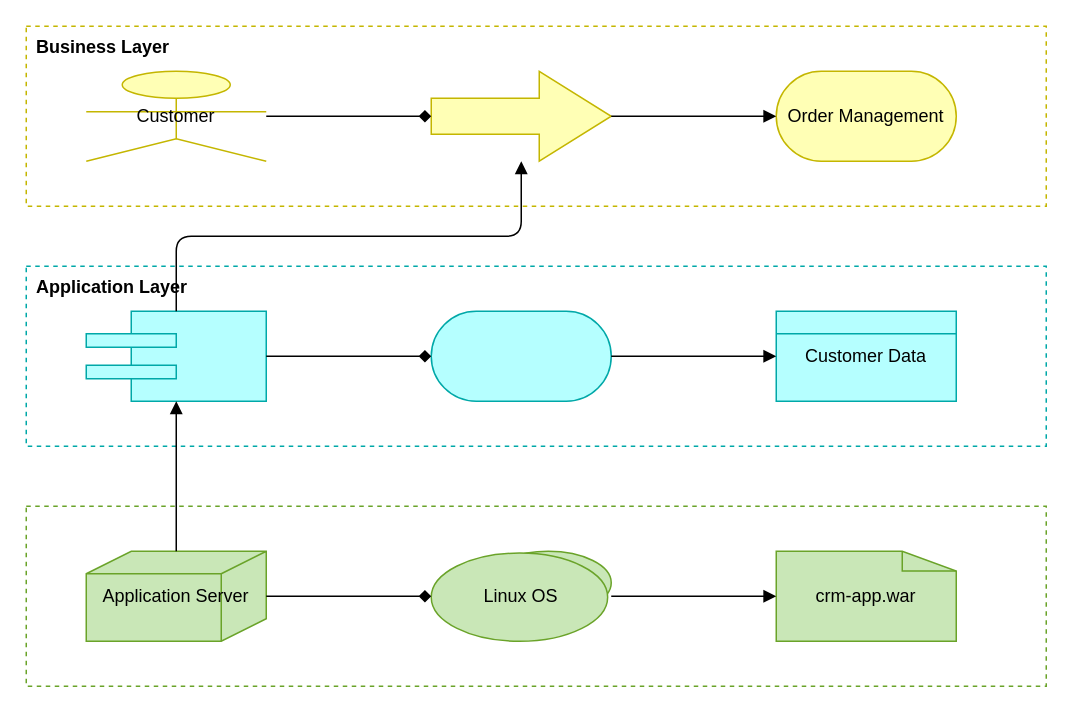
Image size: 1073x713. Some labels were removed from this diagram. Here are the shapes that lost their labels. From the top down, the box of each, then its label:
(430, 70, 611, 161): Customer Service
(85, 310, 266, 401): CRM System
(430, 310, 611, 401): Order API
(25, 505, 1046, 686): Technology Layer
